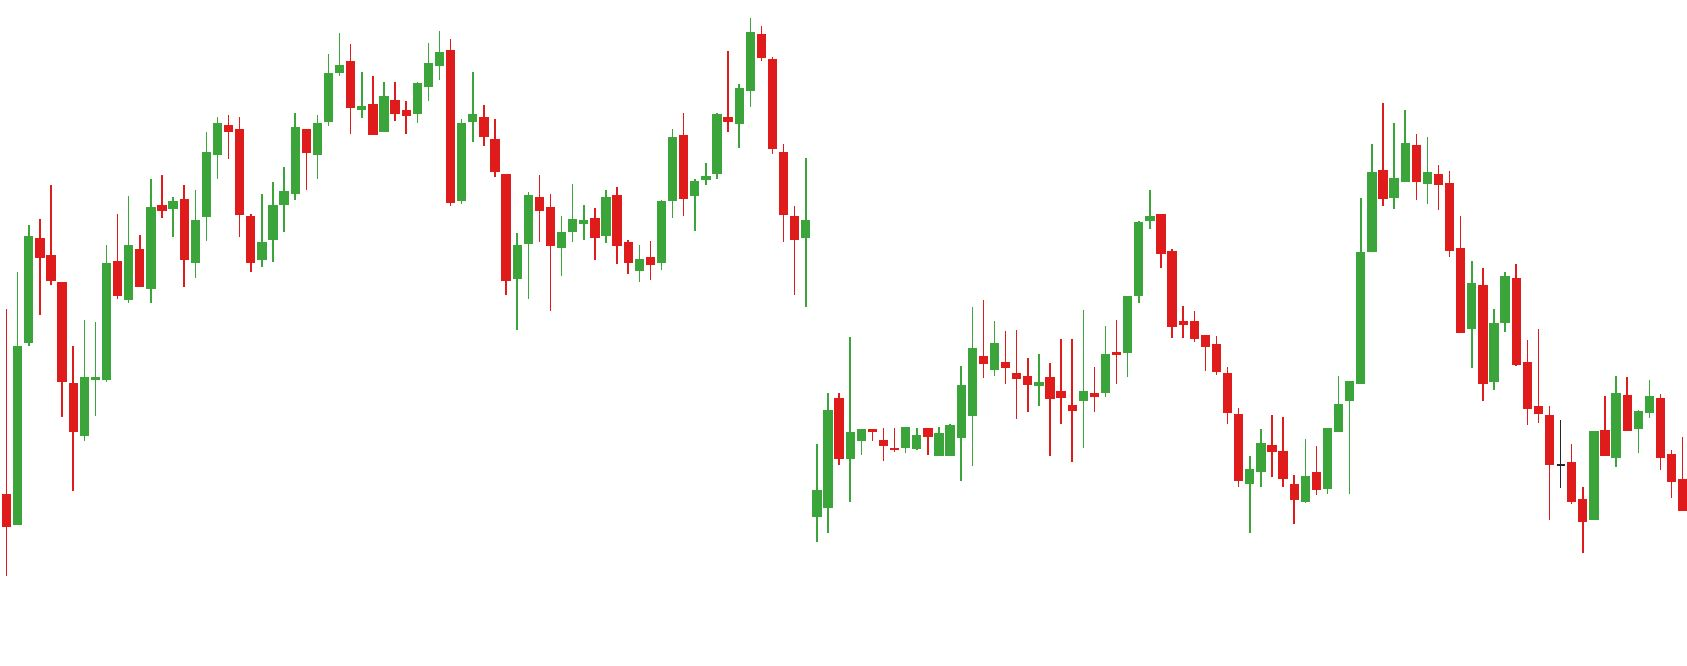buy: (1066, 367, 1267, 537)
sell: (344, 34, 456, 102)
